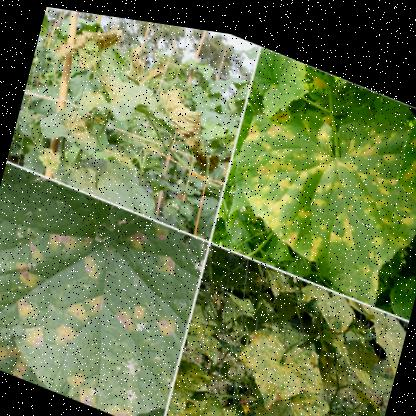DownyMildew: (0, 199, 196, 415), (256, 122, 402, 257)
